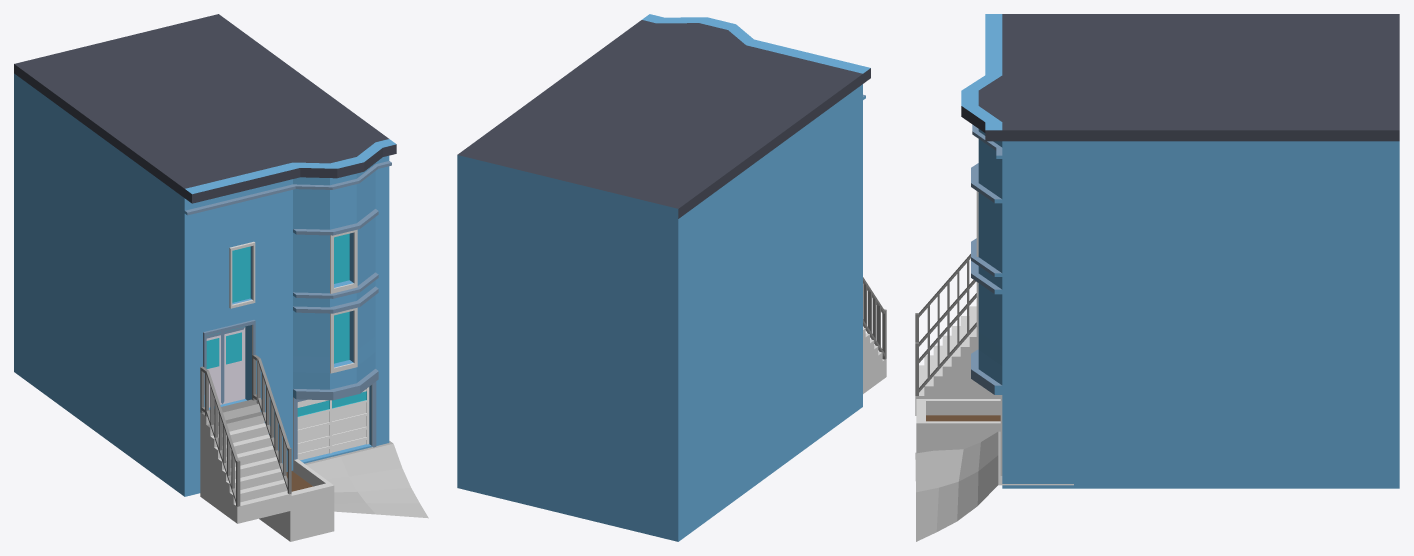
The model's file is sf_house1.fbx.
The picture shows the model from 3 angles, left to right: view 1: azimuth 30°, elevation 25°; view 2: azimuth 150°, elevation 25°; view 3: azimuth 270°, elevation 25°; orthographic projection. The views are drawn at different scales.
Visible parts, largest first — view 1: GarageDoor, building_007, GarageRamp, Planter; view 2: GarageDoor, building_007; view 3: GarageDoor, GarageRamp, building_007, Planter.
Boxes of the visible parts, x1,y1,x2,y2 form: GarageDoor: [14, 14, 396, 496]; building_007: [200, 354, 291, 523]; GarageRamp: [305, 441, 428, 518]; Planter: [259, 459, 334, 541]; GarageDoor: [457, 14, 870, 541]; building_007: [863, 277, 886, 393]; GarageDoor: [961, 14, 1399, 488]; GarageRamp: [915, 431, 1073, 541]; building_007: [915, 254, 1000, 415]; Planter: [916, 399, 1000, 453].
Size of the model in its own units: 947 by 1541 by 1648.
